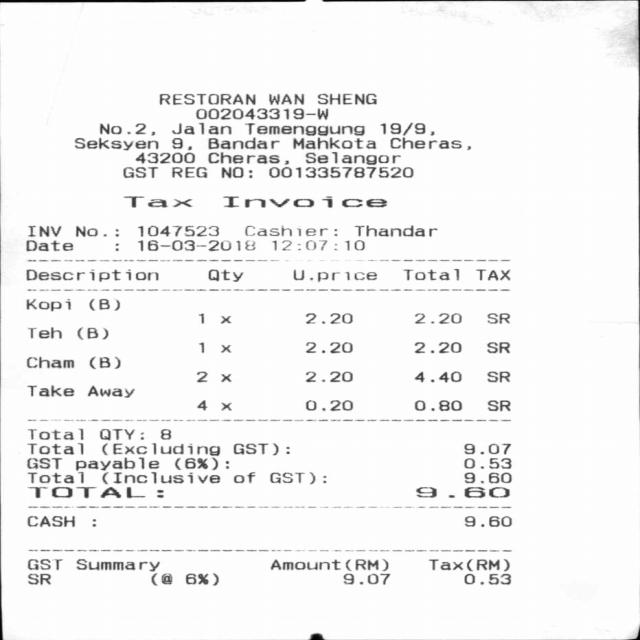text: (222, 195, 386, 207), (100, 442, 218, 456), (28, 486, 164, 498), (24, 269, 158, 281), (268, 166, 412, 177), (196, 108, 327, 119), (244, 123, 362, 135), (268, 558, 386, 570), (101, 471, 218, 483), (136, 240, 253, 250), (158, 93, 254, 105), (304, 152, 400, 164), (291, 269, 376, 282), (72, 137, 156, 150), (75, 457, 157, 470), (207, 151, 288, 164), (414, 486, 508, 497), (244, 225, 336, 236), (292, 136, 375, 148), (75, 559, 158, 571), (427, 559, 508, 571), (389, 137, 469, 149), (272, 240, 363, 250), (354, 225, 436, 236), (137, 225, 217, 236), (207, 137, 278, 149), (122, 195, 190, 207), (171, 122, 230, 134), (379, 122, 433, 135), (174, 457, 228, 470), (402, 268, 460, 280), (99, 123, 154, 135), (27, 442, 82, 454), (233, 443, 288, 455), (316, 93, 375, 104), (134, 152, 193, 163), (26, 471, 82, 482), (269, 472, 325, 483), (28, 428, 82, 439), (25, 356, 73, 368), (413, 341, 459, 353), (27, 384, 73, 396), (87, 384, 133, 396), (26, 515, 74, 526), (304, 342, 351, 353), (304, 399, 351, 410), (26, 298, 69, 310), (413, 371, 459, 382), (463, 443, 509, 454), (464, 515, 510, 526), (463, 573, 509, 584), (99, 428, 143, 439), (25, 240, 72, 250), (304, 313, 351, 323), (304, 371, 351, 381), (413, 400, 460, 410), (341, 573, 388, 583), (75, 226, 117, 237), (413, 313, 459, 323), (464, 458, 510, 468), (464, 472, 510, 482), (206, 269, 242, 281), (185, 572, 218, 585), (475, 268, 510, 280), (121, 166, 156, 177), (171, 166, 206, 177), (88, 356, 120, 368), (27, 226, 60, 237), (27, 327, 60, 338), (76, 327, 106, 339), (267, 94, 302, 104), (26, 458, 61, 468), (26, 559, 61, 569), (88, 298, 119, 309), (220, 166, 250, 177), (150, 572, 171, 585), (486, 341, 508, 353), (28, 572, 50, 584), (486, 371, 508, 382), (486, 400, 510, 410), (233, 471, 254, 482), (171, 138, 190, 150), (486, 313, 508, 323), (196, 371, 206, 381), (196, 399, 206, 409), (160, 429, 170, 439), (220, 315, 231, 323), (221, 344, 232, 352), (198, 313, 206, 323), (198, 342, 206, 352), (220, 374, 229, 382), (220, 402, 229, 409)
